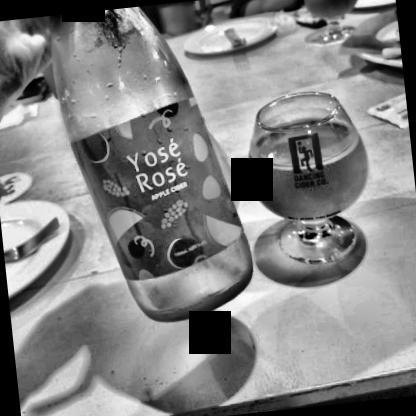yoserose: (78, 104, 252, 286)
